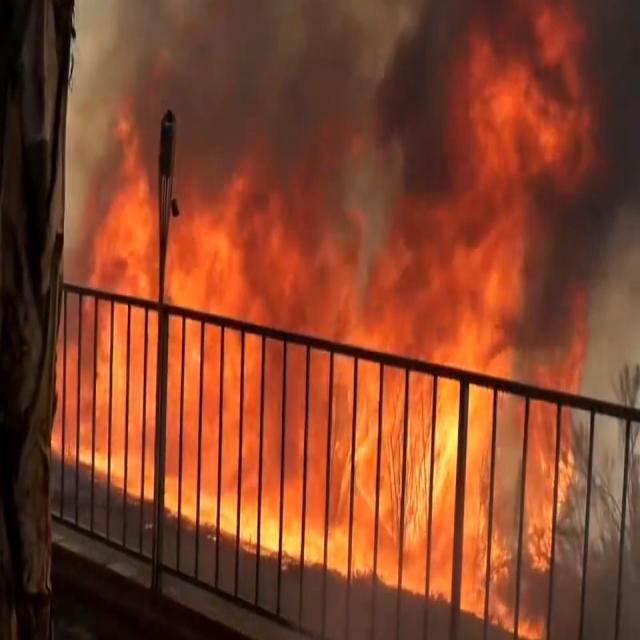fire: (422, 0, 592, 635), (182, 208, 439, 576), (70, 149, 153, 536)
smoke: (182, 0, 389, 166)
